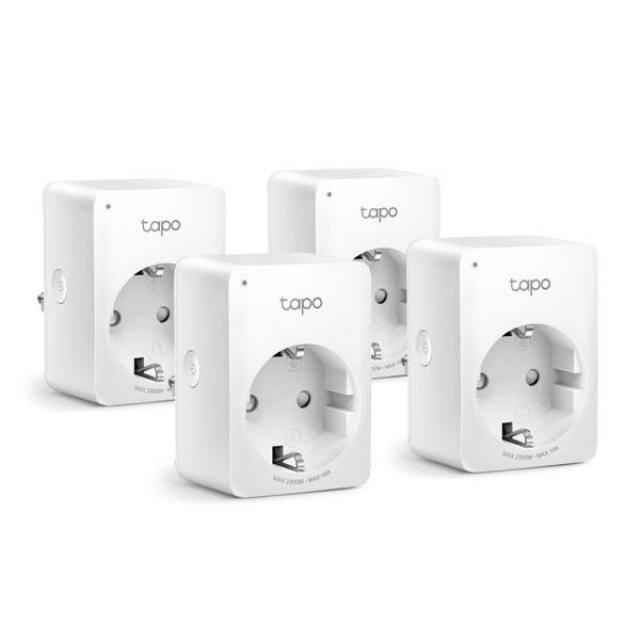typeb: (391, 209, 595, 520)
